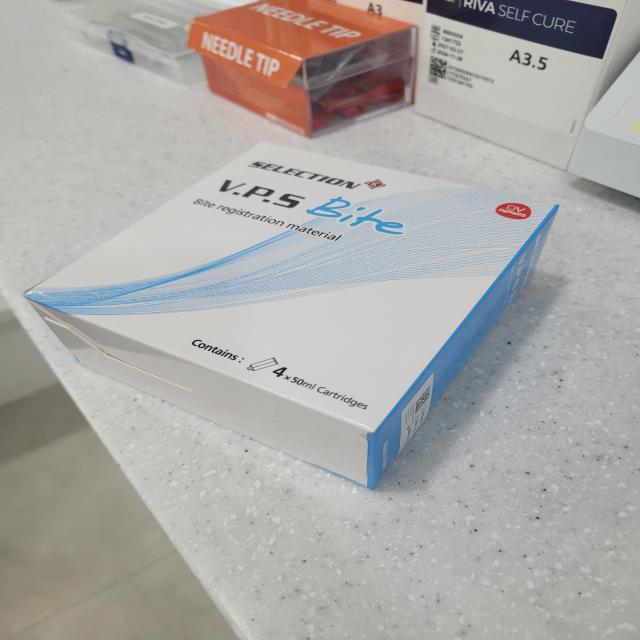impression: (24, 130, 576, 508)
